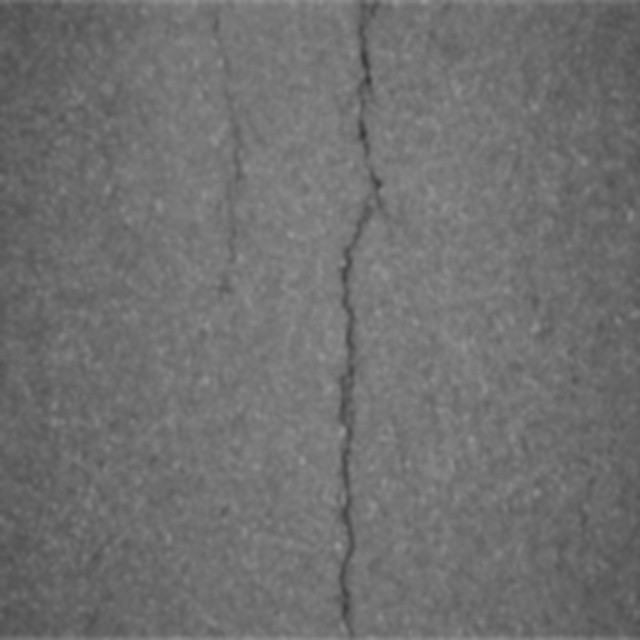SurfaceCrack: (279, 0, 431, 638)
